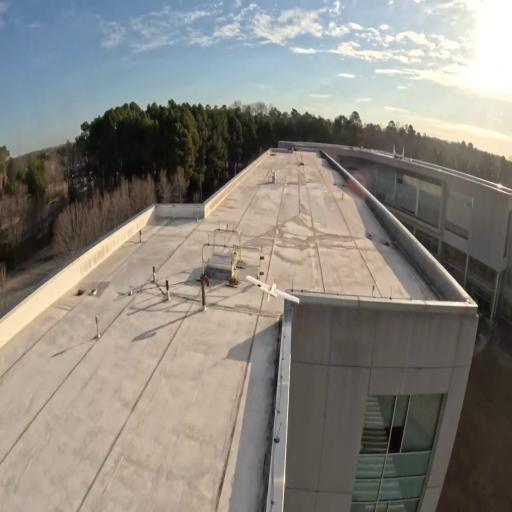uav: (244, 274, 302, 304)
